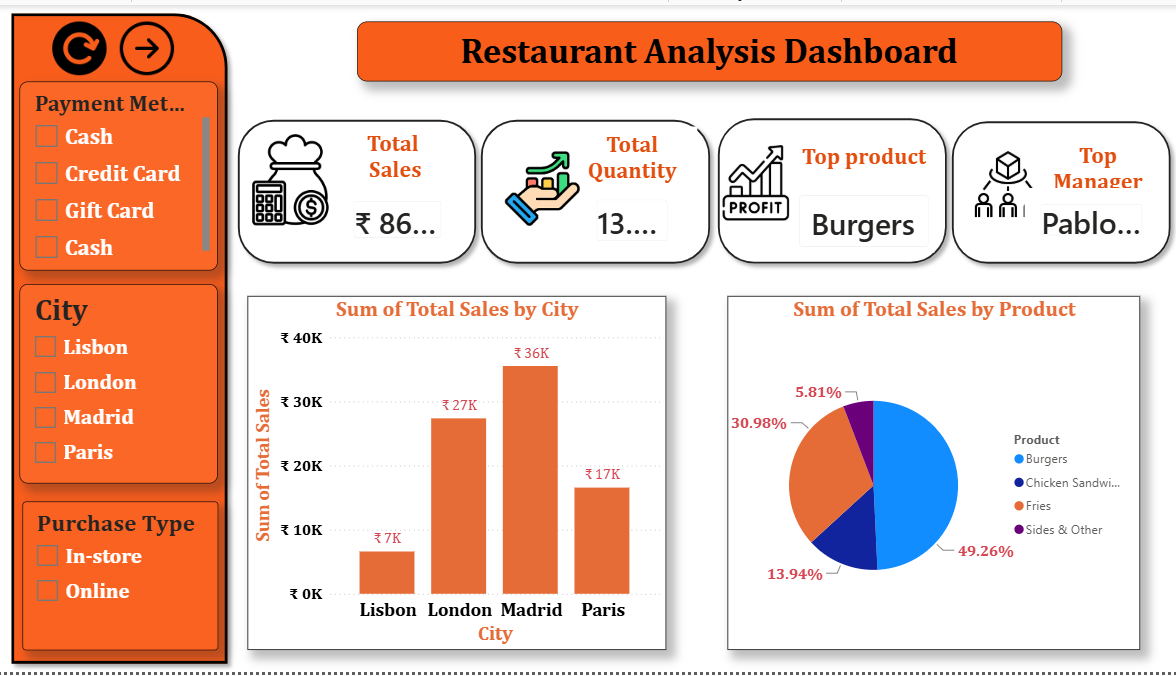

The dashboard page shown, as its layout file describes it:
{"tool":"powerbi","page":{"name":"Dashboard","canvas":[1280,720],"ordinal":0},"visuals":[{"type":"shape","box":[9.4,0,251.3,720],"z":0},{"type":"shape","box":[772.4,113.3,265.1,174.7],"z":0,"group":"g4"},{"type":"shape","box":[254.2,115,275.3,173.3],"z":0,"group":"g1"},{"type":"shape","box":[516.5,115,265.6,173.3],"z":0,"group":"g2"},{"type":"shape","box":[1025,116.6,254.2,171.6],"z":0,"group":"g3"},{"type":"textbox","box":[391.9,17.8,761,64.8],"z":1000},{"type":"textbox","box":[374.3,129.6,118.2,85.8],"z":1000,"group":"g1"},{"type":"textbox","box":[619.3,131.2,140.9,84.2],"z":1000,"group":"g2"},{"type":"textbox","box":[1128.7,143.2,126.3,71.2],"z":1000,"group":"g3"},{"type":"textbox","box":[862.4,143.5,152.2,53.4],"z":1000,"group":"g4"},{"type":"textbox","box":[371.8,200.2,122.8,65.7],"z":2000,"group":"g1"},{"type":"slicer","fields":{"Values":["Sheet1.Purchase Type"]},"box":[30.2,536.7,211.7,160.6],"z":2000},{"type":"slicer","fields":{"Values":["Sheet1.Payment Method"]},"box":[27.5,82.6,213.7,204],"z":3000},{"type":"image","box":[250.6,137.7,137.6,102],"z":3000,"group":"g1"},{"type":"slicer","fields":{"Values":["Sheet1.City"]},"box":[27.5,301.2,213.7,215.4],"z":4000},{"type":"group","id":"g1","title":"Group 1","box":[250.6,115,278.9,173.3],"z":5000},{"type":"group","id":"g2","title":"Group 1","box":[516.5,115,265.6,173.3],"z":6000},{"type":"group","id":"g3","title":"Group 1","box":[1025,116.6,254.2,171.6],"z":7000},{"type":"group","id":"g4","title":"Group 1","box":[546.5,113.3,491,174.7],"z":8000},{"type":"image","box":[50.2,17.8,84.2,58.3],"z":9000},{"type":"image","box":[123.1,17.8,84.2,58.3],"z":10000},{"type":"cardVisual","fields":{"Data":["Sum(Sheet1.Total Sales)"]},"box":[370.8,194.3,129.5,74.5],"z":11000},{"type":"columnChart","fields":{"Category":["Sheet1.City"],"Y":["Sum(Sheet1.Total Sales)"]},"box":[273.6,314.1,451.8,382.1],"z":12000},{"type":"pieChart","fields":{"Category":["Sheet1.Product"],"Y":["Sum(Sheet1.Total Sales)"]},"box":[791.8,314.1,445.3,382.1],"z":13000},{"type":"cardVisual","fields":{"Data":["Sheet1.tot quantity"]},"box":[633.1,192.7,111.7,79.3],"z":14000},{"type":"image","box":[546.5,138.6,89.1,118.2],"z":14004,"group":"g4"},{"type":"image","box":[1047.3,155.5,93.9,76.1],"z":14004,"group":"g3"},{"type":"cardVisual","fields":{"Data":["Sheet1.Top Manager"]},"box":[1112.4,197.5,144.1,68],"z":15000},{"type":"cardVisual","fields":{"Data":["Sheet1.Top Product"]},"box":[863,199.2,152.2,68],"z":16000},{"type":"image","box":[782.1,150.6,81,82.6],"z":17000}]}

Visuals, with their boxes in screenshot pixels (x1, y1, x2, y2), scaled from the page's 1280x720 canvas onto the 1176x676 screenshot:
shape: rect(9, 0, 240, 675)
shape: rect(710, 106, 953, 270)
shape: rect(234, 108, 486, 271)
shape: rect(475, 108, 719, 271)
shape: rect(942, 109, 1175, 271)
textbox: rect(360, 17, 1059, 78)
textbox: rect(344, 122, 452, 202)
textbox: rect(569, 123, 698, 202)
textbox: rect(1037, 134, 1153, 201)
textbox: rect(792, 135, 932, 185)
textbox: rect(342, 188, 454, 250)
slicer - Sheet1.Purchase Type: rect(28, 504, 222, 655)
slicer - Sheet1.Payment Method: rect(25, 78, 222, 269)
image: rect(230, 129, 357, 225)
slicer - Sheet1.City: rect(25, 283, 222, 485)
"Group 1" group: rect(230, 108, 486, 271)
"Group 1" group: rect(475, 108, 719, 271)
"Group 1" group: rect(942, 109, 1175, 271)
"Group 1" group: rect(502, 106, 953, 270)
image: rect(46, 17, 123, 71)
image: rect(113, 17, 190, 71)
cardVisual - Sum(Sheet1.Total Sales): rect(341, 182, 460, 252)
columnChart - Sheet1.City x Sum(Sheet1.Total Sales): rect(251, 295, 666, 654)
pieChart - Sheet1.Product x Sum(Sheet1.Total Sales): rect(727, 295, 1137, 654)
cardVisual - Sheet1.tot quantity: rect(582, 181, 684, 255)
image: rect(502, 130, 584, 241)
image: rect(962, 146, 1048, 217)
cardVisual - Sheet1.Top Manager: rect(1022, 185, 1154, 249)
cardVisual - Sheet1.Top Product: rect(793, 187, 933, 251)
image: rect(719, 141, 793, 219)
